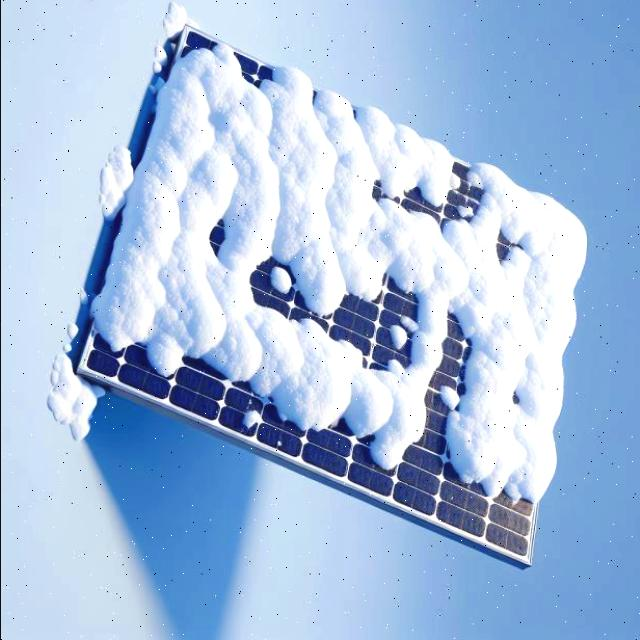Anomaly Solar Panel: (36, 28, 640, 578)
Snow: (70, 31, 640, 525), (239, 408, 264, 432), (272, 267, 293, 295)
